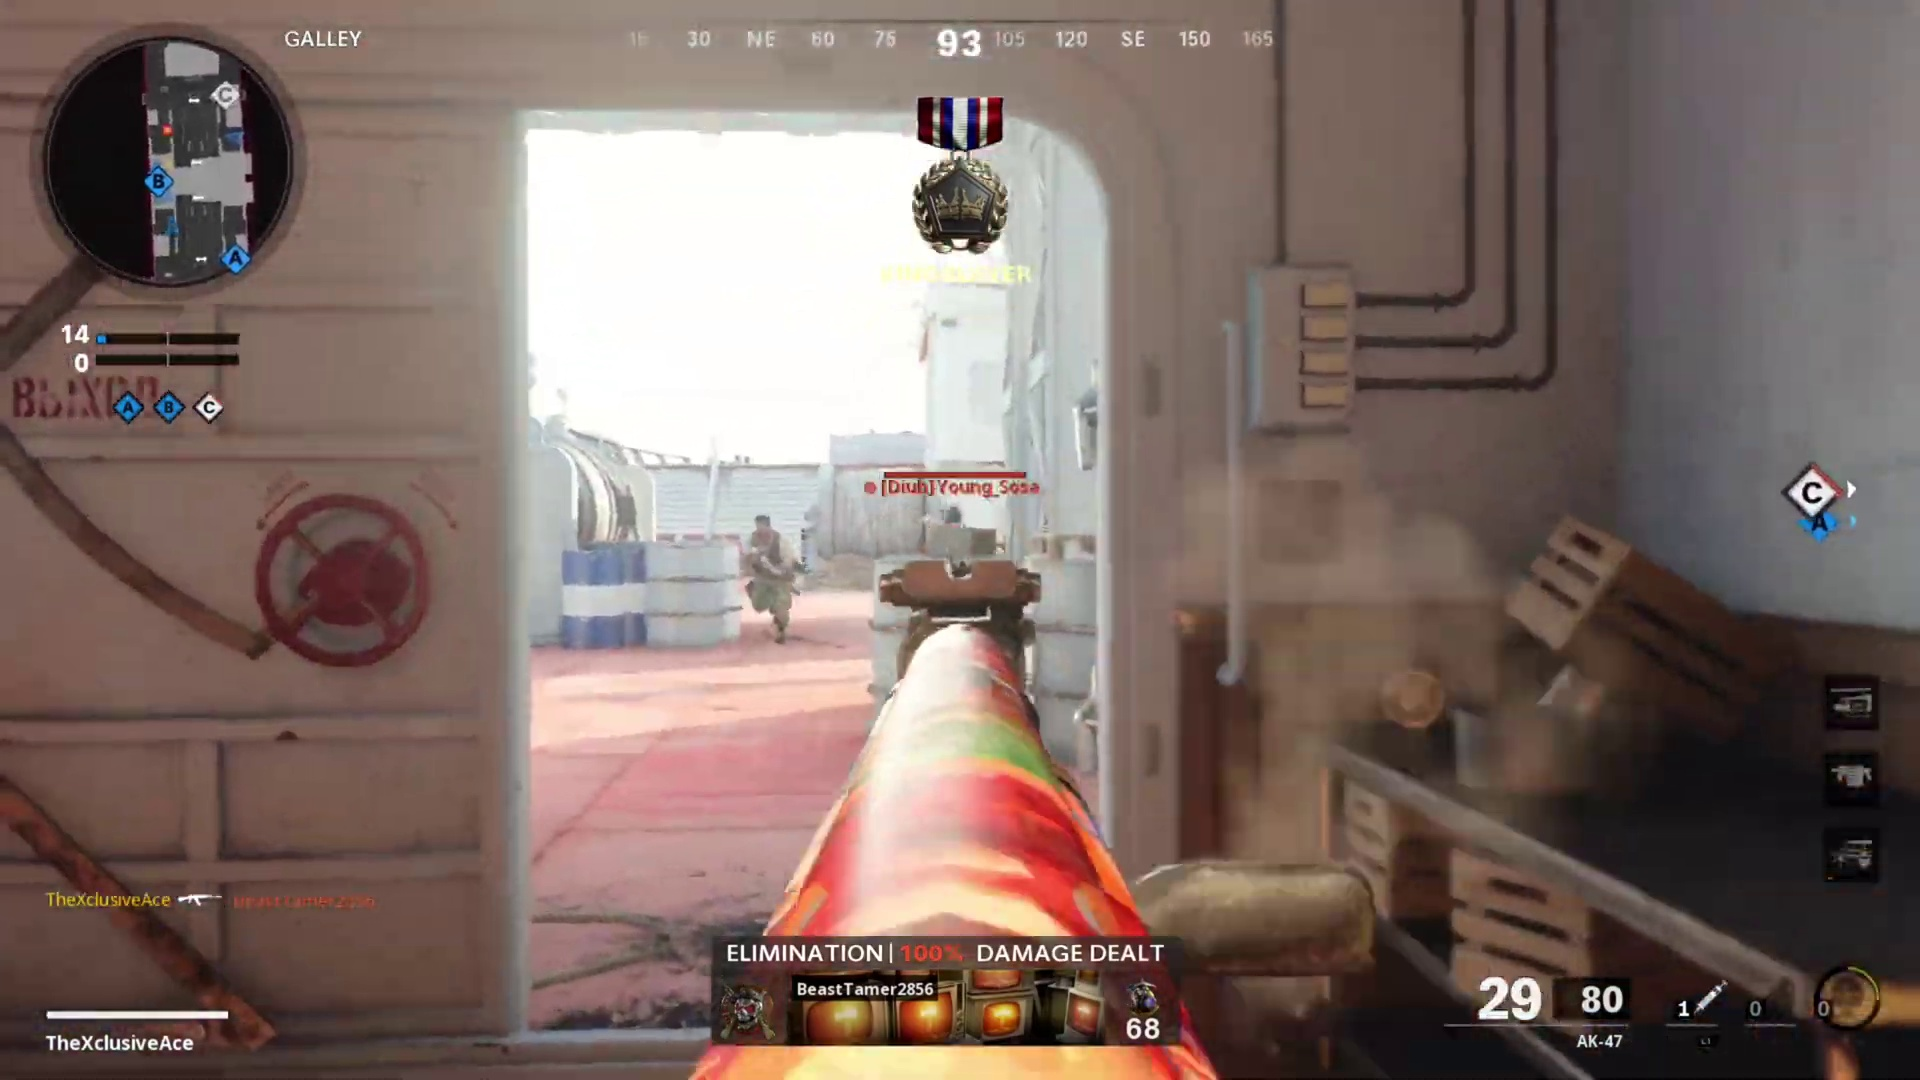head: (747, 511, 778, 550), (934, 503, 965, 528)
person: (742, 509, 802, 640)
